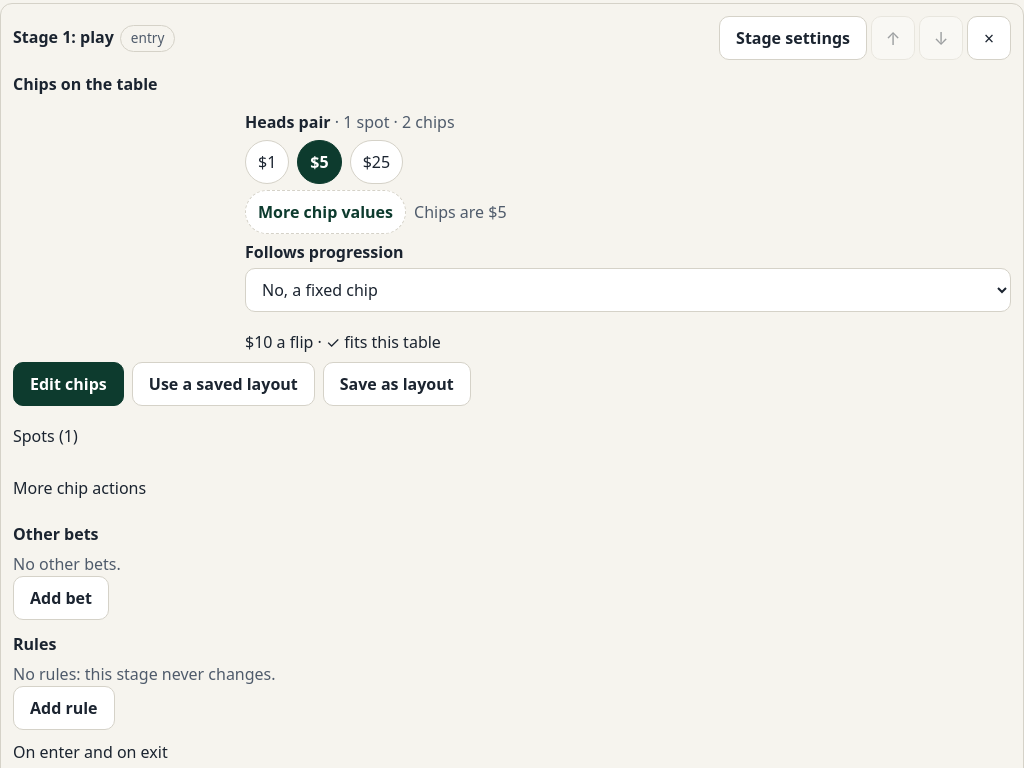
Test: ChipsPanel: starting points › cancelling the editor of existing chips leaves them alone
The width and height of the screenshot is (1024, 768).
(page scrolled)
Click the button "Edit chips": [68, 384] box [13,362,124,406]
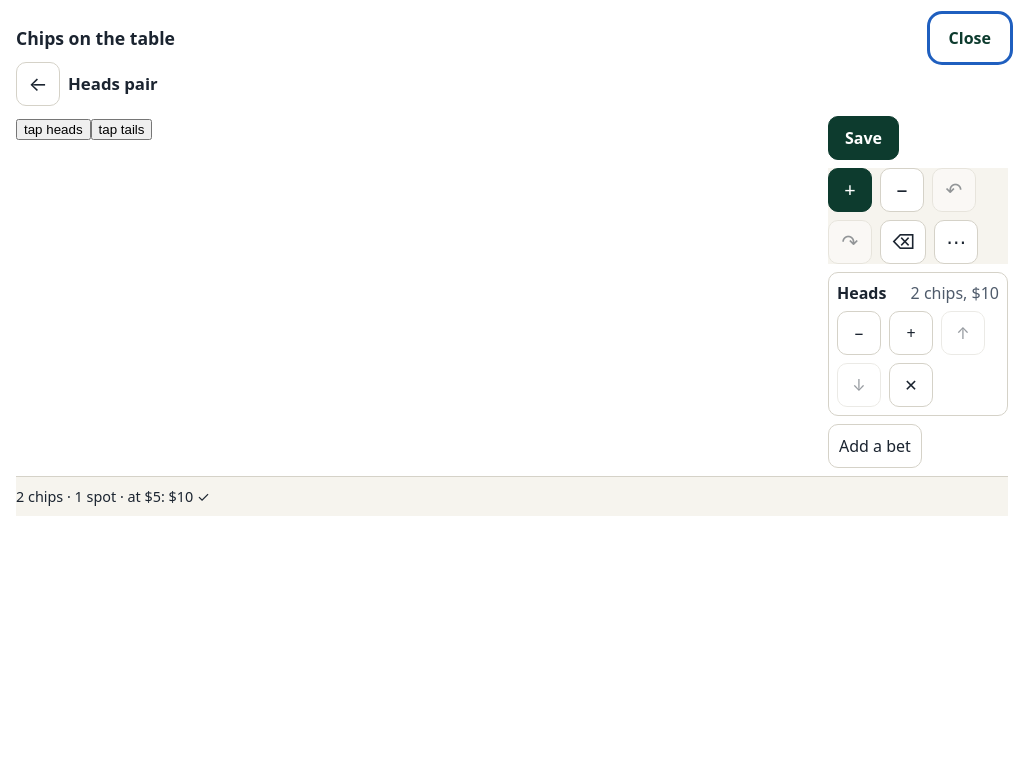
Click the button named "Back": [38, 84] box [16,62,60,106]
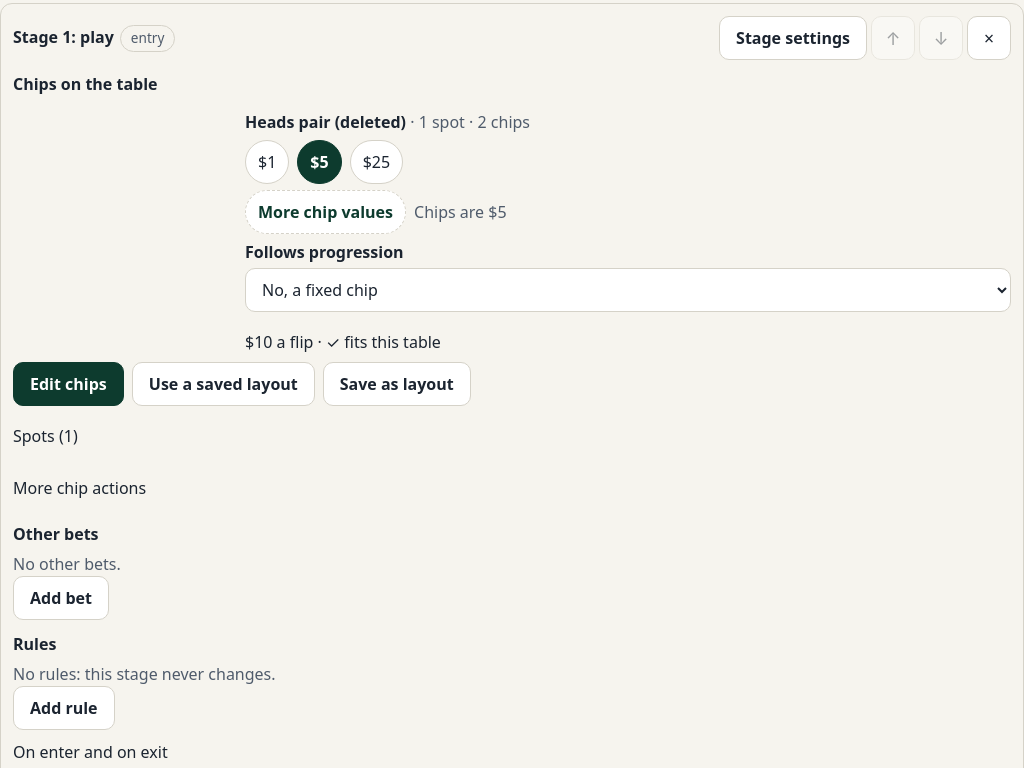
expect the dialog is gone: met
